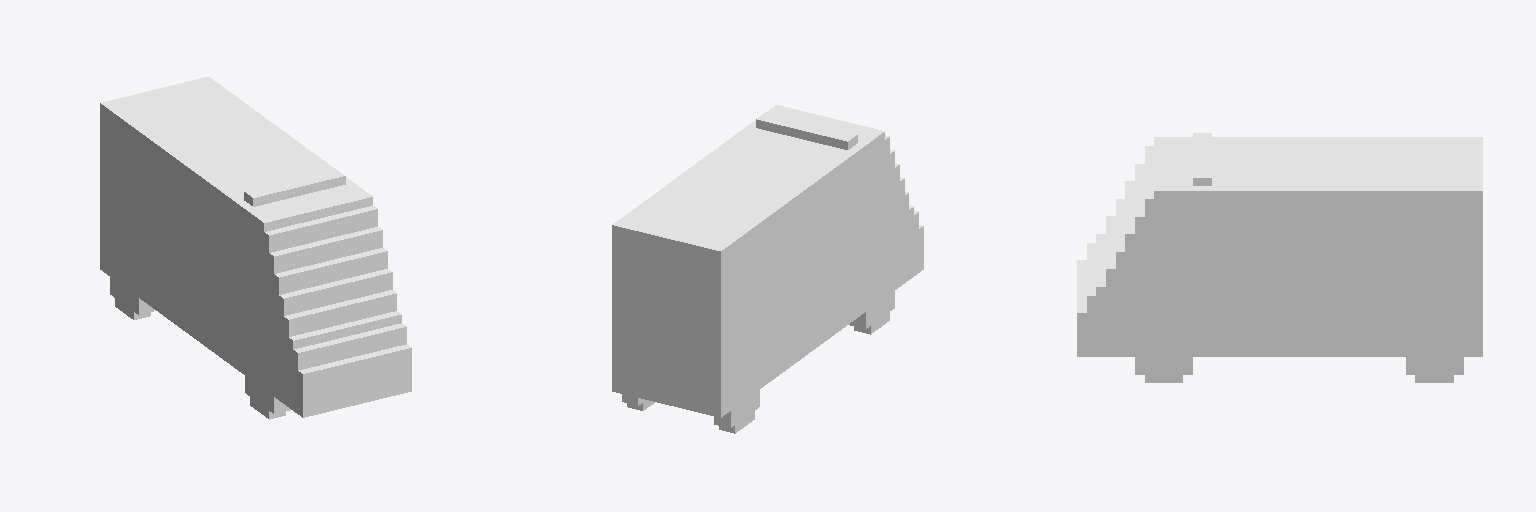
File: ambulance.obj
3 views of the same model, side by side, from view 1: azimuth 30°, elevation 25°; view 2: azimuth 150°, elevation 25°; view 3: azimuth 270°, elevation 25° (orthographic).
Parts seen in each view (by area): view 1: ambulance; view 2: ambulance; view 3: ambulance.
Part boxes in pixels (x1,y1,x2,y2): ambulance: (100, 77, 411, 419); ambulance: (612, 105, 923, 433); ambulance: (1077, 133, 1482, 382).
Size of the model in its own units: 13 by 23 by 42.